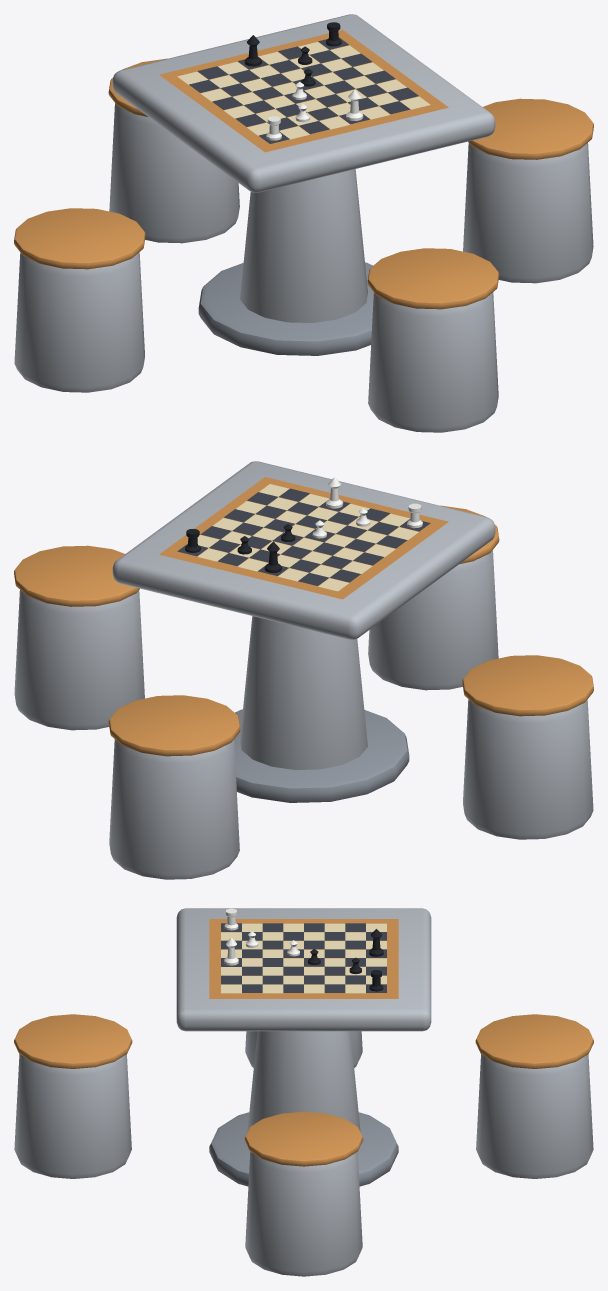
The model's file is mesa_xadrez_praca.glb.
The picture shows the model from 3 angles, top to bottom: view 1: azimuth 30°, elevation 25°; view 2: azimuth 150°, elevation 25°; view 3: azimuth 270°, elevation 25°; orthographic projection. The views are drawn at different scales.
Parts seen in each view (by area): view 1: mesa_xadrez_praca; view 2: mesa_xadrez_praca; view 3: mesa_xadrez_praca.
Part boxes in pixels (<box>): mesa_xadrez_praca: <box>14,14,593,432</box>; mesa_xadrez_praca: <box>14,461,593,879</box>; mesa_xadrez_praca: <box>14,908,593,1276</box>.
Size of the model in its own units: 1.96 by 0.838 by 1.96.
Materials: 1 (1 with a texture image).
